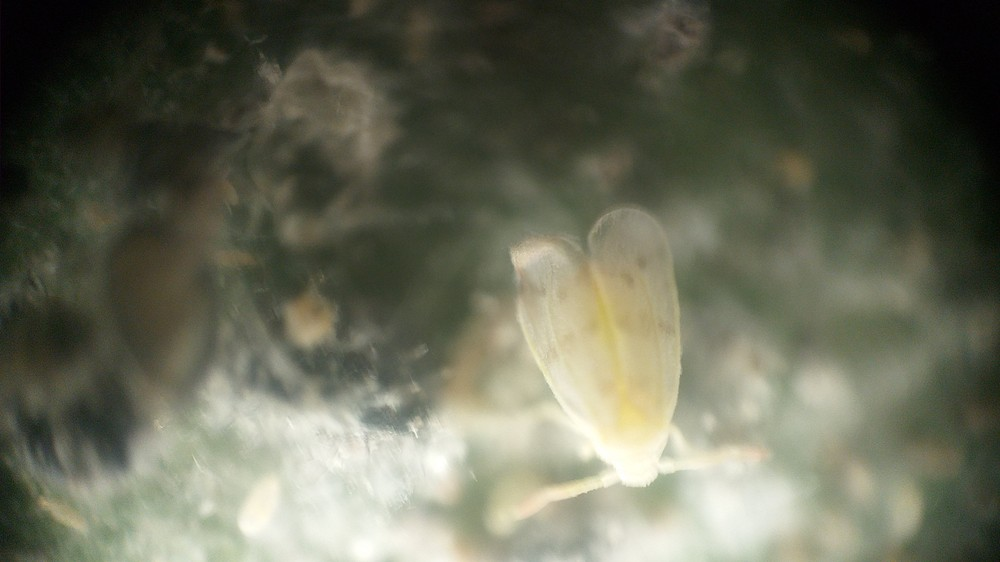Mosca Blanca: (458, 200, 819, 541)
